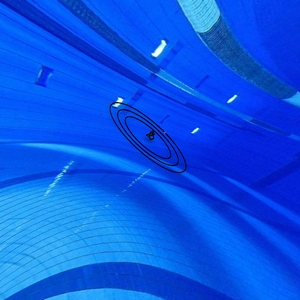circle: (106, 96, 195, 179)
submarine: (143, 129, 160, 144)
